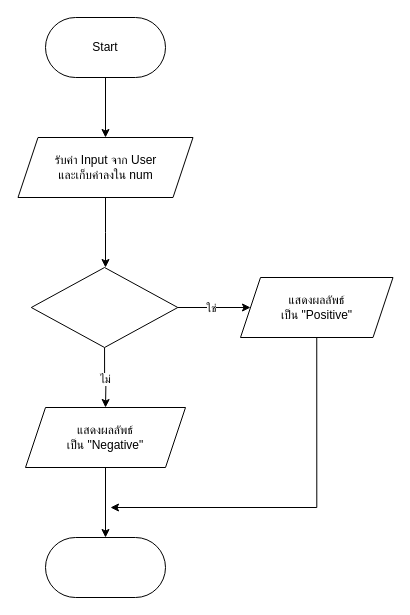
Some shapes in this 410 by 615 pixel diagram are drawn without their labels. The box of each missing label's shape, as (x1, y1, x2, y2) in pixels:
End: (44, 536, 166, 598)
ตัวแปร num มากกว่า 0 หรือไม่: (30, 266, 178, 348)
